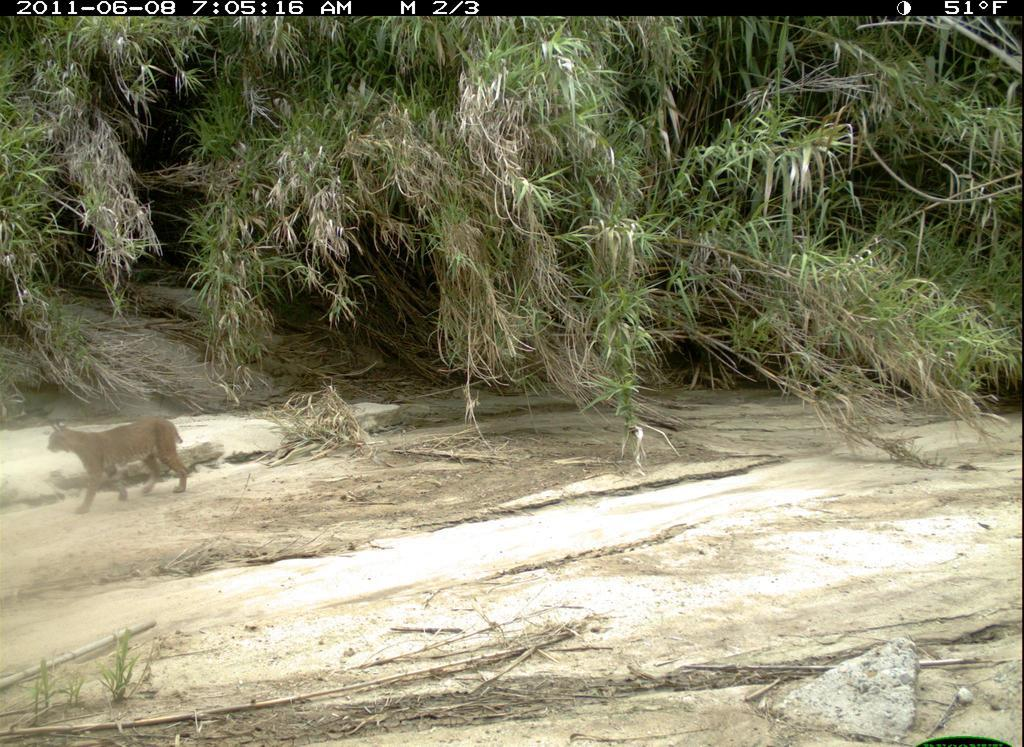bobcat: (40, 410, 196, 516)
